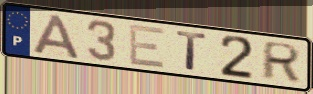2: (218, 34, 256, 82)
3: (85, 18, 119, 64)
A: (31, 13, 83, 61)
E: (127, 23, 167, 71)
R: (260, 40, 304, 84)
T: (174, 29, 209, 73)
